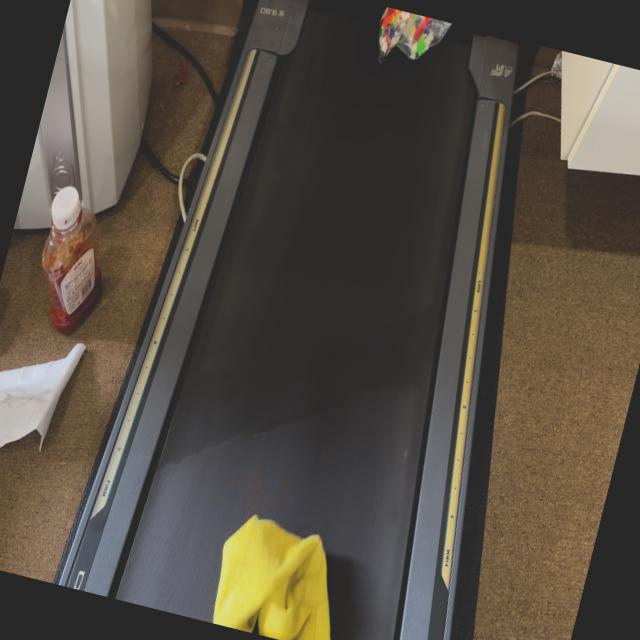Trash: (199, 497, 365, 640), (350, 2, 460, 96)
